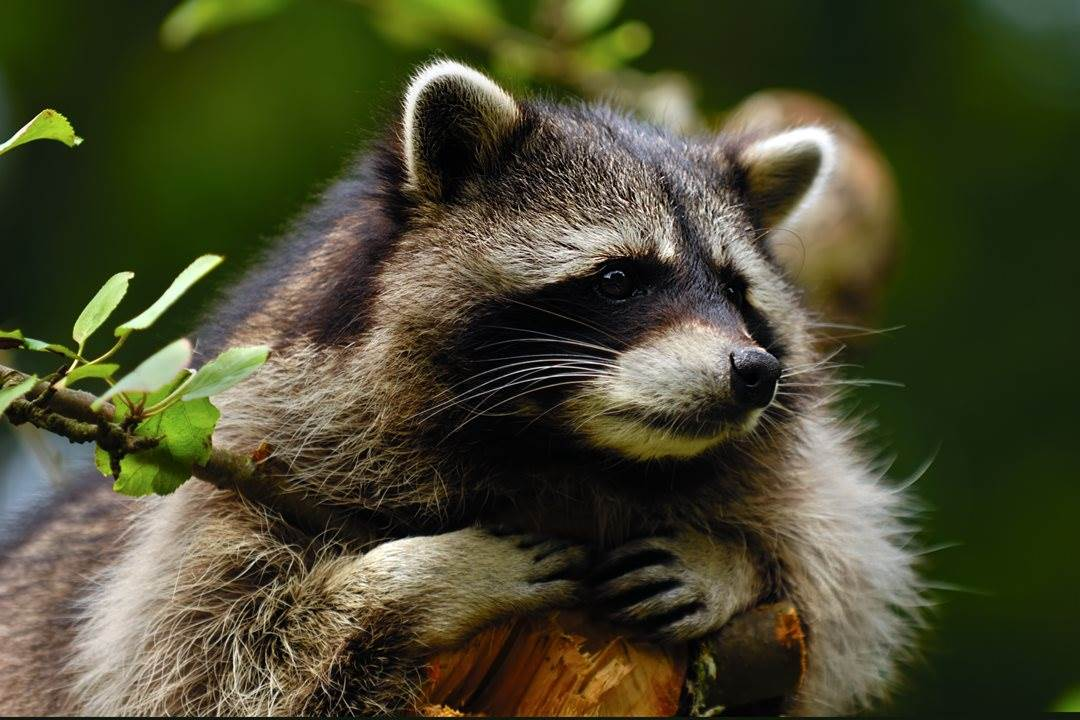raccoon: (5, 48, 943, 720)
